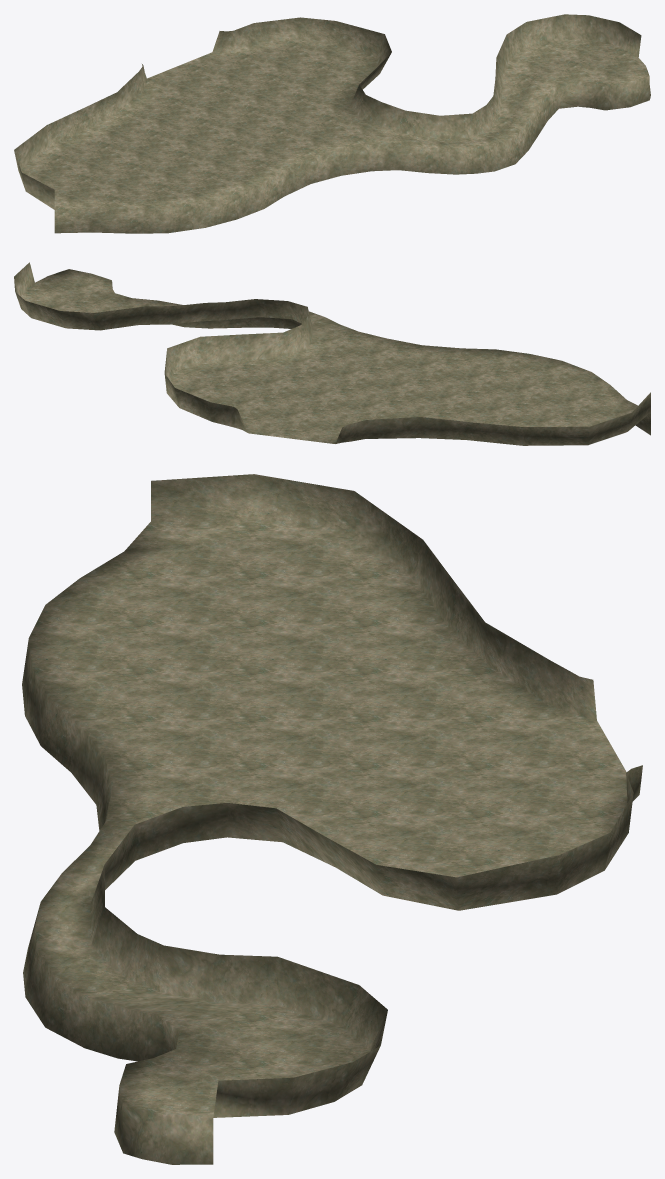
Rendered from OVERHILL_A_01_OBJECT146.fbx.
The picture shows the model from 3 angles, top to bottom: view 1: azimuth 30°, elevation 25°; view 2: azimuth 150°, elevation 25°; view 3: azimuth 270°, elevation 25°; orthographic projection. The views are drawn at different scales.
Parts seen in each view (by area): view 1: OVERHILL_A_01_OBJECT146; view 2: OVERHILL_A_01_OBJECT146; view 3: OVERHILL_A_01_OBJECT146.
Boxes of the visible parts, bbox=[...] form: OVERHILL_A_01_OBJECT146: bbox=[14, 14, 650, 233]; OVERHILL_A_01_OBJECT146: bbox=[14, 262, 650, 445]; OVERHILL_A_01_OBJECT146: bbox=[22, 474, 642, 1164].
Bounding box in the file's own units: 249656 × 24169 × 109926.
2 materials, 2 textured.
